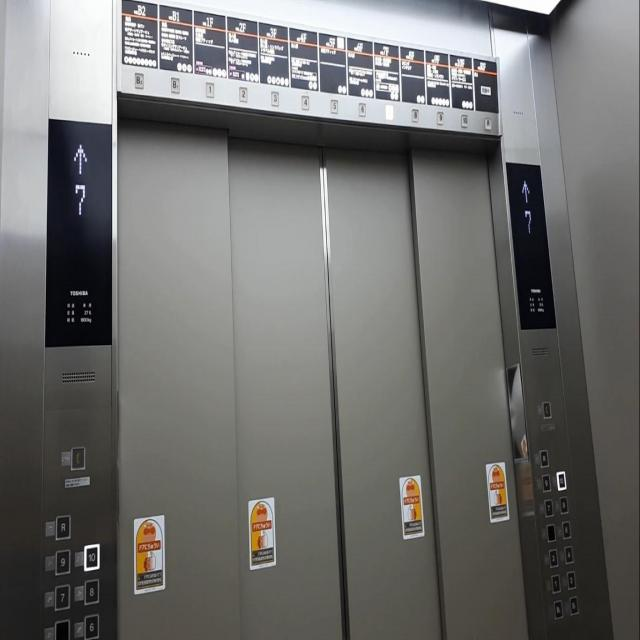1: (550, 573, 562, 594), (204, 80, 215, 98)
10: (82, 540, 101, 572), (556, 470, 567, 490), (459, 112, 468, 128)
2: (566, 569, 576, 591), (238, 84, 248, 103)
3: (548, 548, 559, 568), (269, 89, 280, 108)
4: (563, 544, 574, 565), (300, 93, 310, 112)
5: (329, 98, 339, 114)
6: (84, 613, 99, 639), (561, 519, 572, 540), (357, 100, 366, 118)
7: (54, 583, 70, 610), (544, 497, 554, 518)
8: (84, 576, 100, 606), (558, 495, 569, 515), (410, 107, 419, 123)
9: (54, 546, 72, 576), (541, 472, 552, 492), (436, 110, 444, 126)
B: (553, 600, 563, 618), (569, 596, 578, 615)
B1: (170, 75, 180, 95)
B2: (134, 71, 144, 90)
R: (55, 512, 71, 540), (538, 448, 549, 468), (483, 116, 492, 131)
call: (70, 445, 86, 471), (542, 398, 552, 420)
empty: (54, 618, 70, 640), (546, 523, 556, 542), (384, 102, 394, 120)
led: (43, 109, 114, 355), (505, 152, 561, 338)
